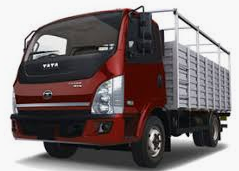truck: (9, 3, 233, 168)
